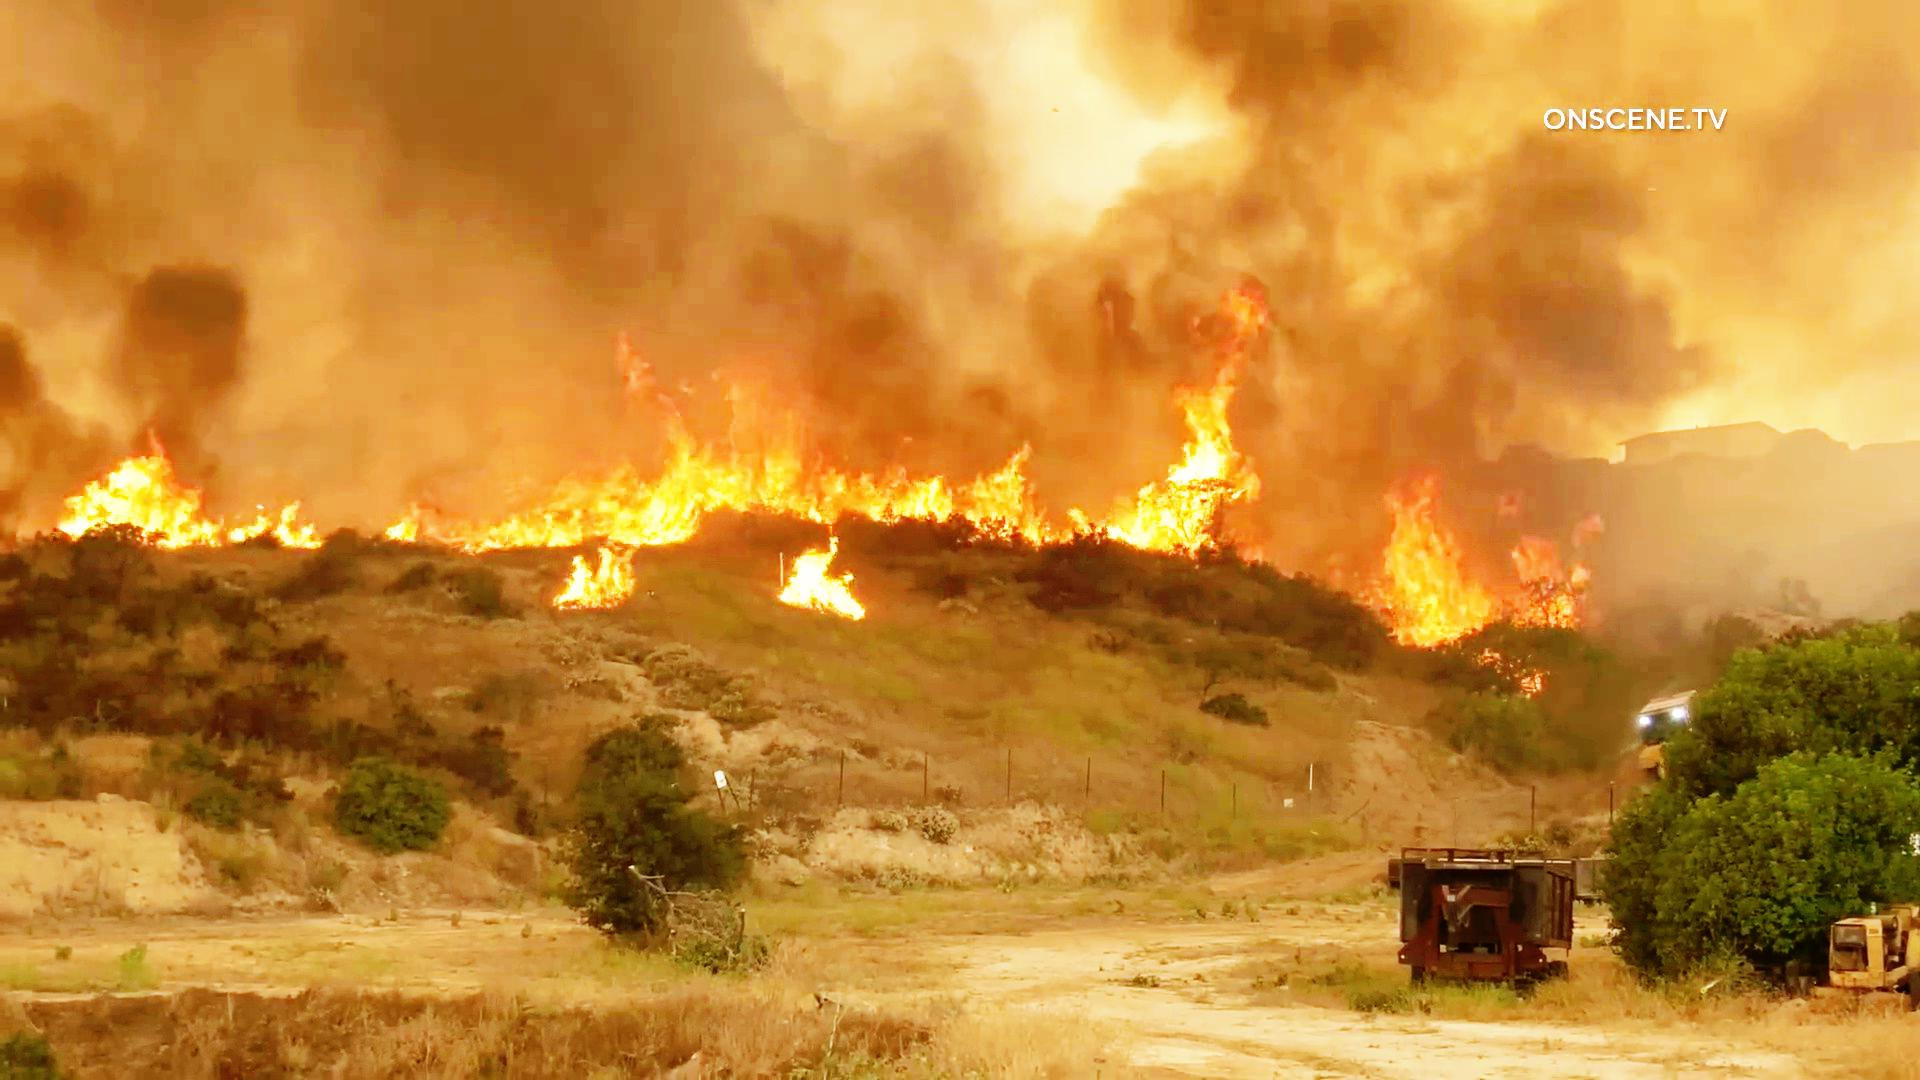fire: (406, 418, 683, 611), (618, 356, 858, 526), (1106, 315, 1255, 571), (55, 421, 305, 556), (1367, 476, 1559, 646), (861, 443, 1051, 537)
smoke: (349, 33, 909, 327), (1418, 164, 1667, 447)
